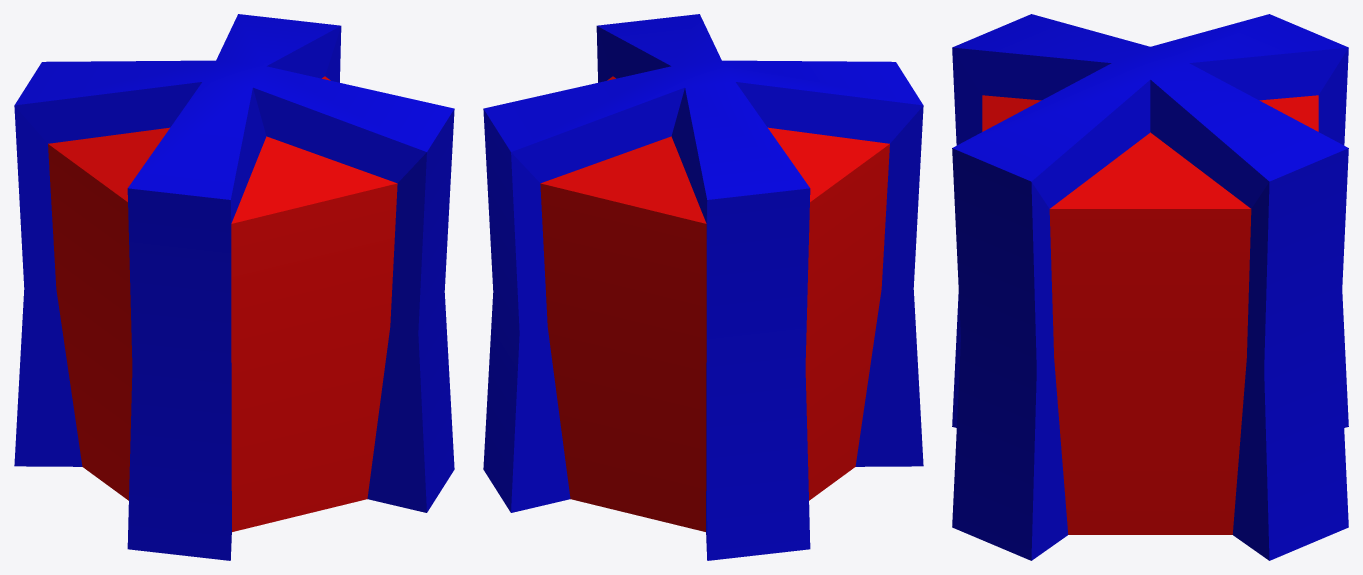
File: Aufbewahrungskiste_2_low.fbx
The picture shows the model from 3 angles, left to right: view 1: azimuth 30°, elevation 25°; view 2: azimuth 150°, elevation 25°; view 3: azimuth 270°, elevation 25°; orthographic projection. The views are drawn at different scales.
Parts seen in each view (by area): view 1: Aufbewahrungskiste_2_low; view 2: Aufbewahrungskiste_2_low; view 3: Aufbewahrungskiste_2_low.
Part boxes in pixels (x1,y1,x2,y2): Aufbewahrungskiste_2_low: [14, 14, 454, 560]; Aufbewahrungskiste_2_low: [483, 14, 923, 560]; Aufbewahrungskiste_2_low: [952, 14, 1348, 560].
Bounding box in the file's own units: 0.59 × 0.6793 × 0.59.
